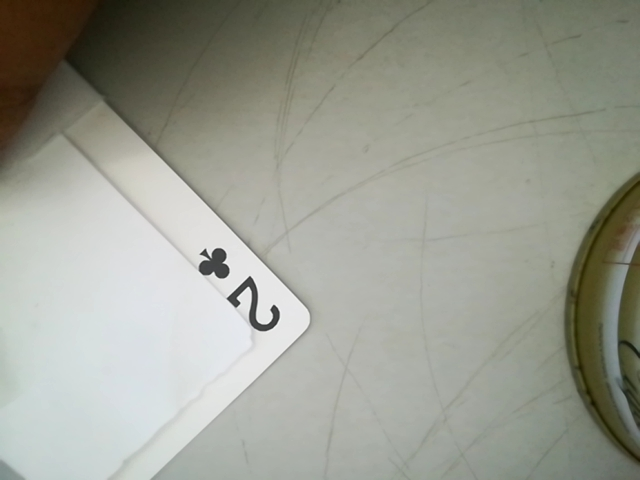mh 2: (193, 231, 287, 342)
